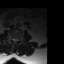CCS_normal: (14, 37, 15, 44)
LFS_normal: (17, 37, 20, 42)
LLS_normal: (15, 37, 17, 43)
RFS_normal: (10, 36, 12, 41)
RLS_normal: (12, 37, 14, 43)
